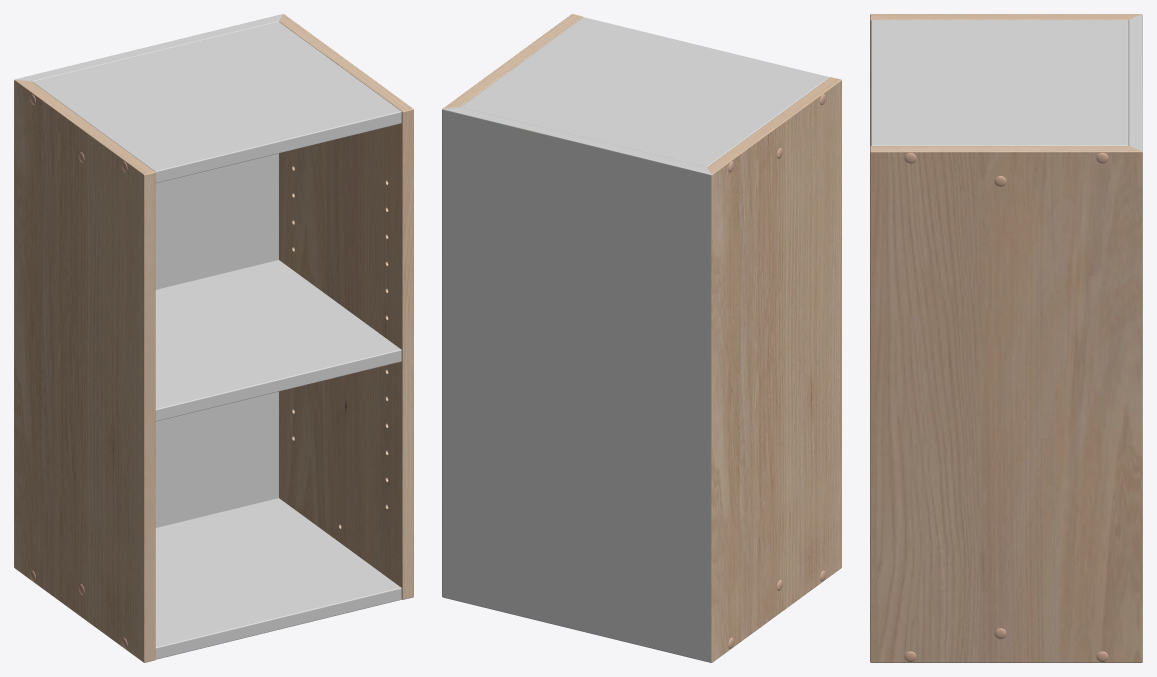
The model's file is abo-B07TTY35MY.glb.
3 views of the same model, side by side, from view 1: azimuth 30°, elevation 25°; view 2: azimuth 150°, elevation 25°; view 3: azimuth 270°, elevation 25° (orthographic). The views are drawn at different scales.
Bounding box in the file's own units: 0.35 × 0.6 × 0.29.
Materials: 1 (1 with a texture image).
